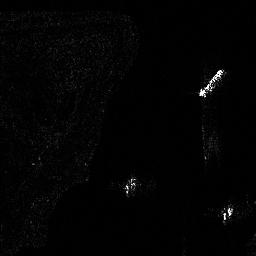ship: (198, 67, 227, 96)
